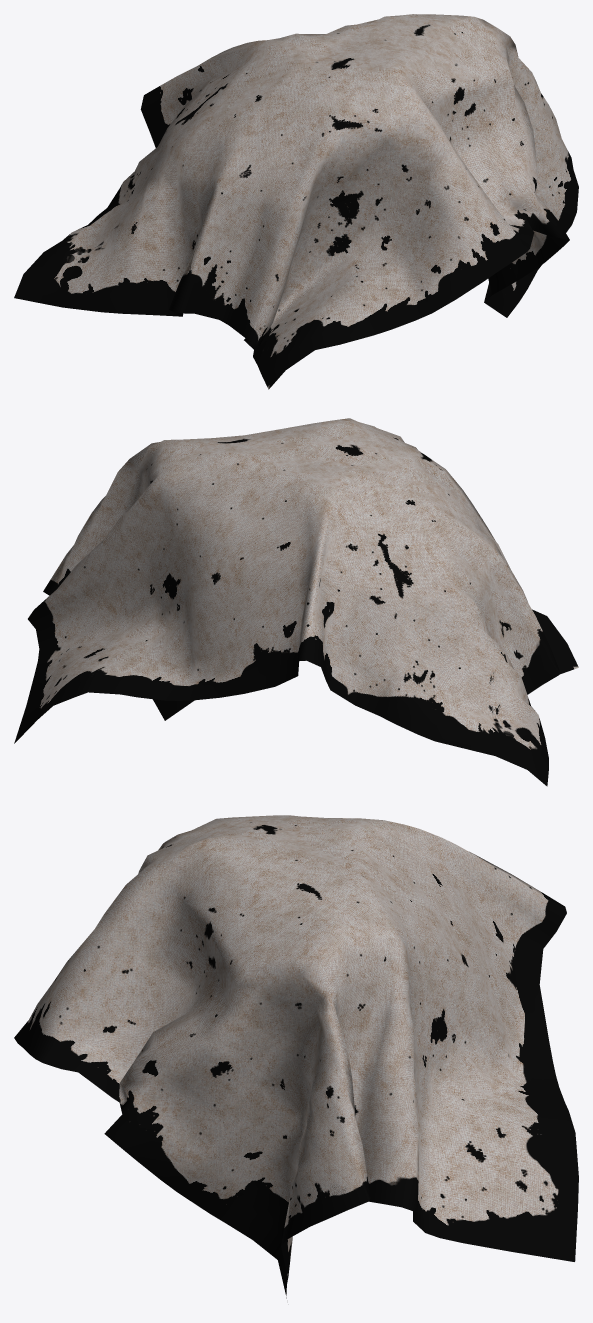
File: cloth_test.fbx
3 views of the same model, one above another, from view 1: azimuth 30°, elevation 25°; view 2: azimuth 150°, elevation 25°; view 3: azimuth 270°, elevation 25° (orthographic). The views are drawn at different scales.
Parts seen in each view (by area): view 1: cloth_low:pPlane7; view 2: cloth_low:pPlane7; view 3: cloth_low:pPlane7.
Part boxes in pixels (x1=…): cloth_low:pPlane7: x1=14, y1=14, x2=578, y2=389; cloth_low:pPlane7: x1=14, y1=418, x2=578, y2=786; cloth_low:pPlane7: x1=14, y1=815, x2=578, y2=1298.
Bounding box in the file's own units: 423 × 238 × 320.
